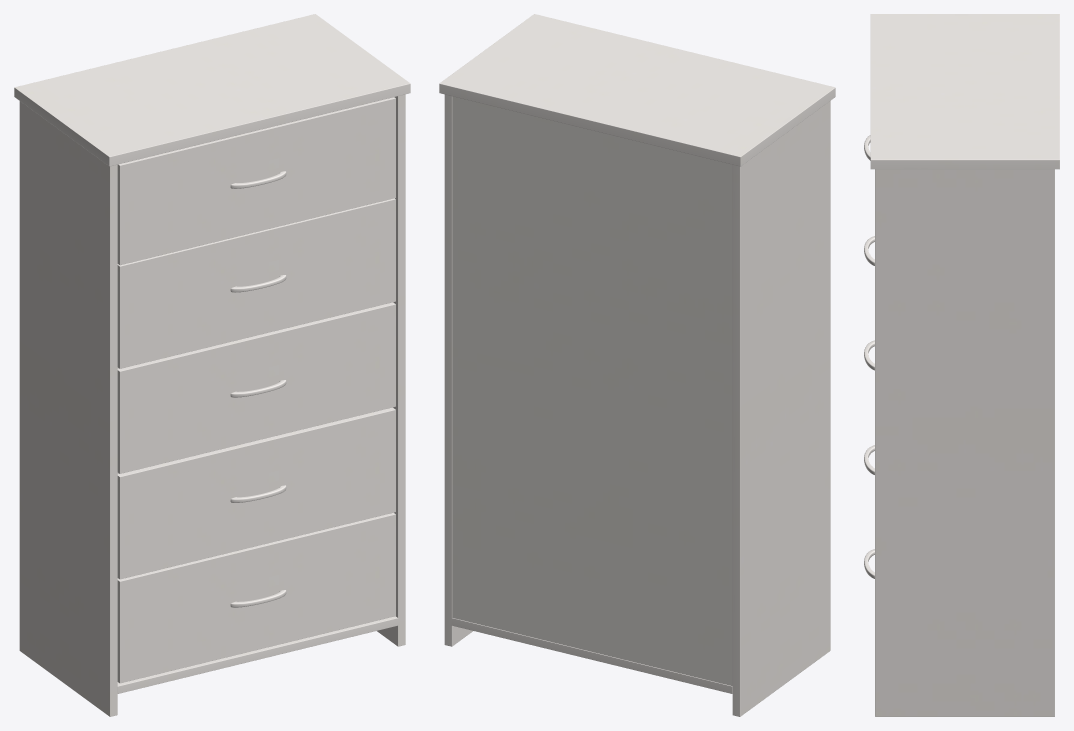
The model's file is abo-B07PXFVNXR.glb.
3 renders of one model, left to right at view 1: azimuth 30°, elevation 25°; view 2: azimuth 150°, elevation 25°; view 3: azimuth 270°, elevation 25°, orthographic.
Size of the model in its own units: 0.704 by 1.26 by 0.399.
1 material, 1 textured.
